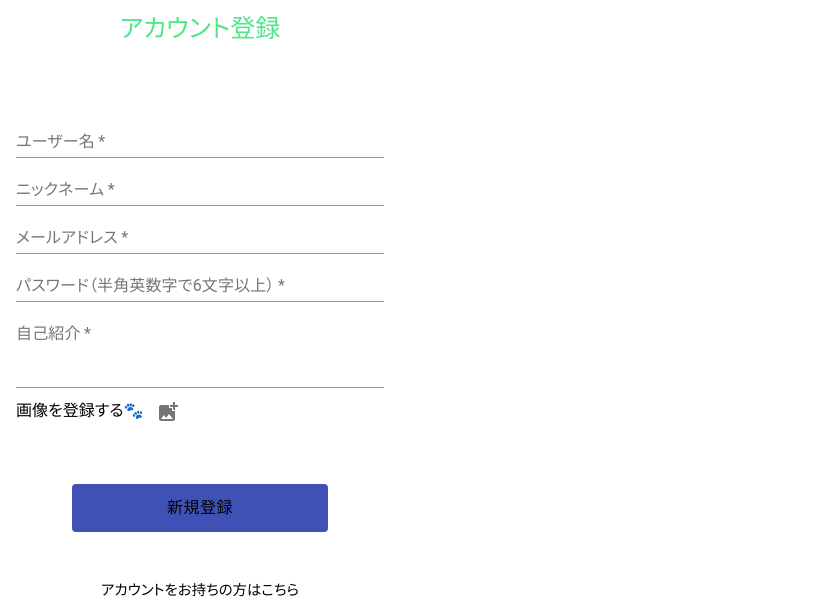
Rendering SignUp › パスワード未入力、「アカウント登録」ボタン押すとエラー発生する
Type "test test" into the field with placeholder "ユーザー名" at {"x": 200, "y": 142}, box [16,126,384,158]
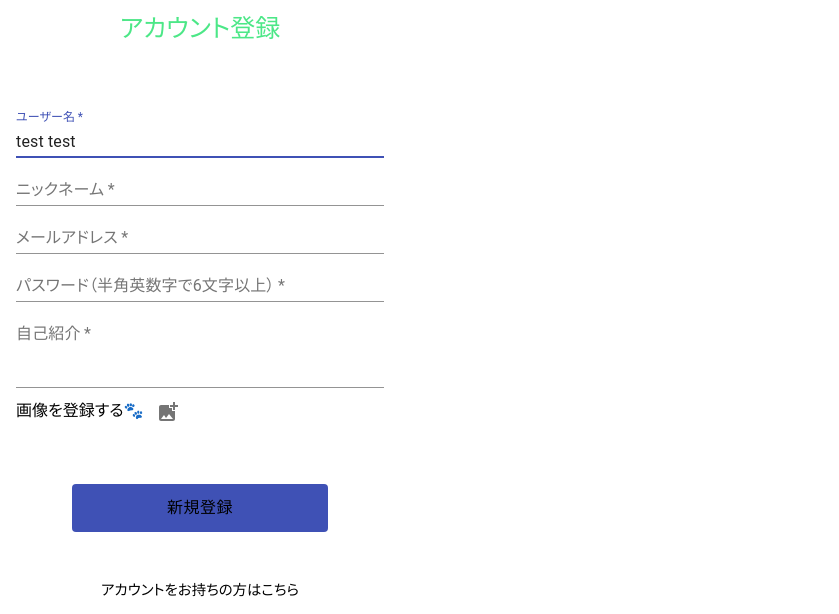
Type "test@email.com" into the field with placeholder "メールアドレス" at {"x": 200, "y": 238}, box [16,222,384,254]
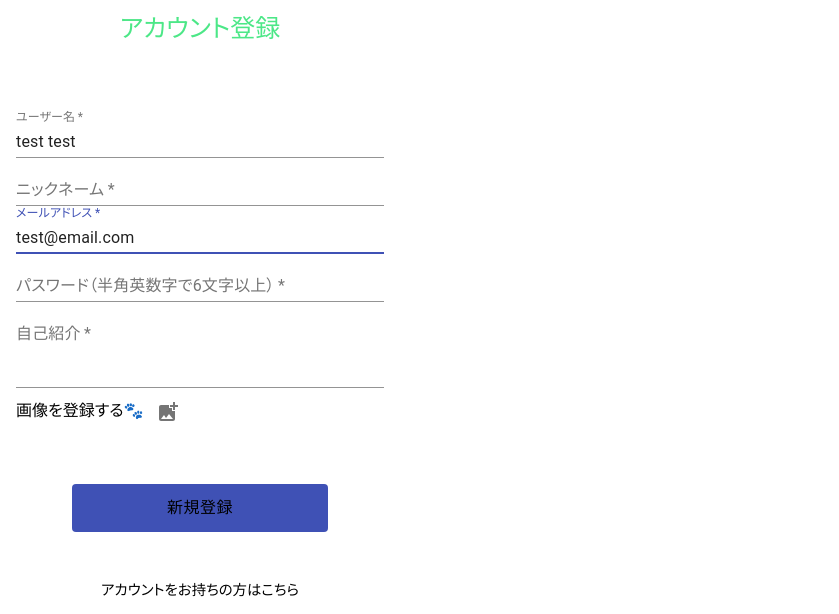
Click the button "新規登録" at {"x": 200, "y": 508}, box [72,484,328,532]
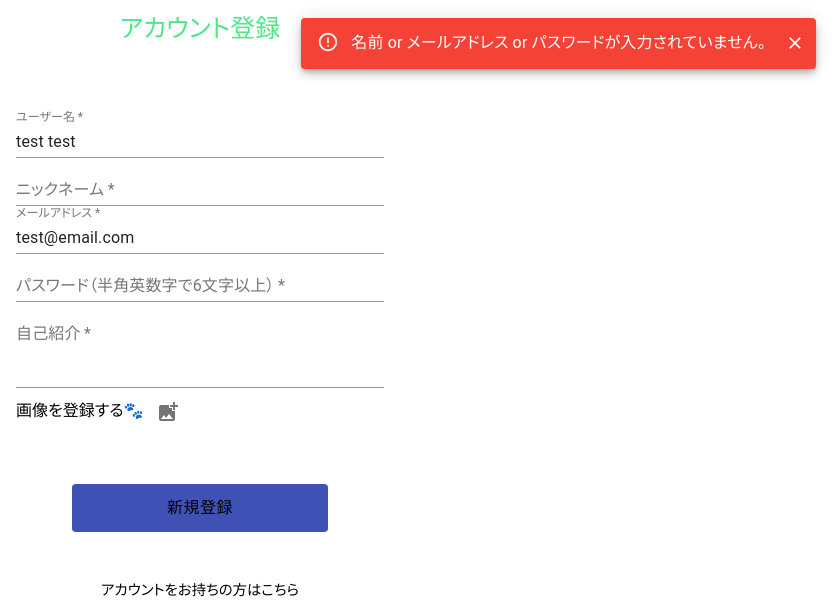
Expected: the text "名前 or メールアドレス or パスワードが入力されていません。" is shown, [351,33,766,52]
